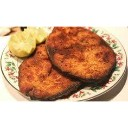seerfish: (46, 25, 117, 80), (15, 42, 80, 99)
